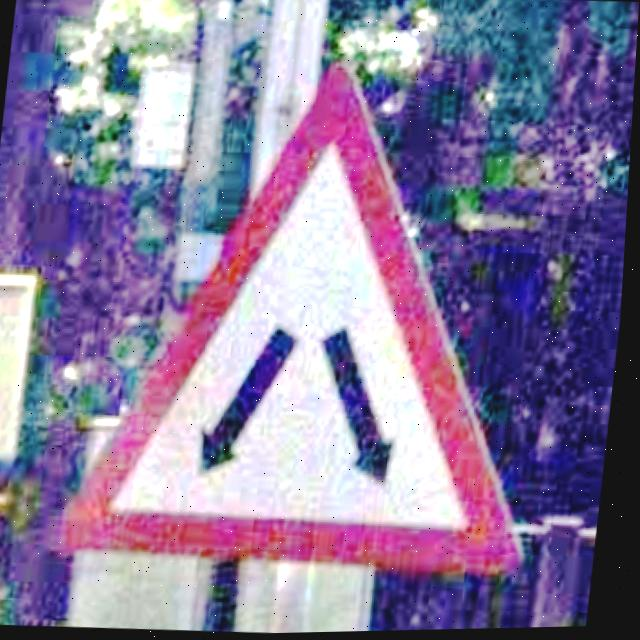diverge: (67, 65, 529, 576)
